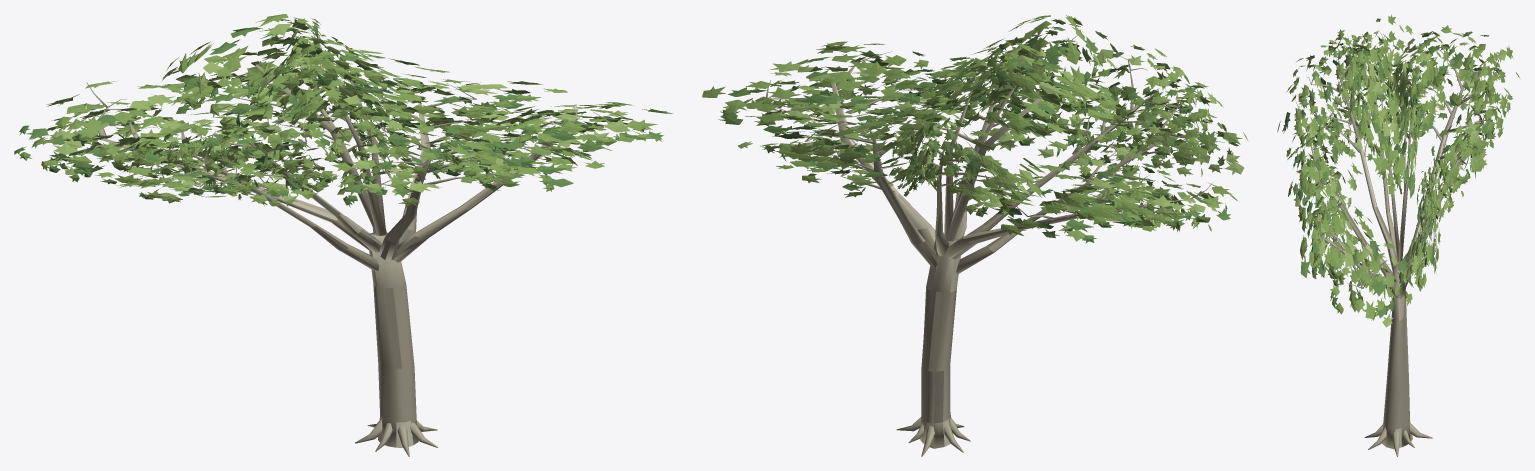
3 views of the same model, side by side, from view 1: azimuth 30°, elevation 25°; view 2: azimuth 150°, elevation 25°; view 3: azimuth 270°, elevation 25° (orthographic). The views are drawn at different scales.
Visible parts, largest first — view 1: tree_plane_c_PlaneLeaf, tree_plane_c_PlaneBark, tree_plane_c_PlaneLeafDark, tree_plane_c_PlaneLeafLight, tree_plane_c_PlaneBarkPale, tree_plane_c_PlaneBarkBrown; view 2: tree_plane_c_PlaneLeaf, tree_plane_c_PlaneBark, tree_plane_c_PlaneLeafLight, tree_plane_c_PlaneLeafDark, tree_plane_c_PlaneBarkPale, tree_plane_c_PlaneBarkBrown; view 3: tree_plane_c_PlaneLeaf, tree_plane_c_PlaneBark, tree_plane_c_PlaneLeafDark, tree_plane_c_PlaneLeafLight, tree_plane_c_PlaneBarkPale, tree_plane_c_PlaneBarkBrown.
Boxes of the visible parts, x1,y1,x2,y2 form: tree_plane_c_PlaneLeaf: (19,14,672,207); tree_plane_c_PlaneBark: (67,64,628,456); tree_plane_c_PlaneLeafDark: (14,18,663,203); tree_plane_c_PlaneLeafLight: (31,19,633,207); tree_plane_c_PlaneBarkPale: (192,103,544,447); tree_plane_c_PlaneBarkBrown: (196,142,421,368); tree_plane_c_PlaneLeaf: (702,15,1242,241); tree_plane_c_PlaneBark: (766,31,1224,456); tree_plane_c_PlaneLeafLight: (738,29,1248,233); tree_plane_c_PlaneLeafDark: (718,23,1230,243); tree_plane_c_PlaneBarkPale: (833,83,1148,448); tree_plane_c_PlaneBarkBrown: (881,95,1153,423); tree_plane_c_PlaneLeaf: (1277,14,1519,320); tree_plane_c_PlaneBark: (1293,32,1507,456); tree_plane_c_PlaneLeafDark: (1285,31,1505,318); tree_plane_c_PlaneLeafLight: (1294,18,1510,327); tree_plane_c_PlaneBarkPale: (1314,61,1462,449); tree_plane_c_PlaneBarkBrown: (1337,71,1466,286).
Size of the model in its own units: 18.06 by 12.71 by 7.91.
